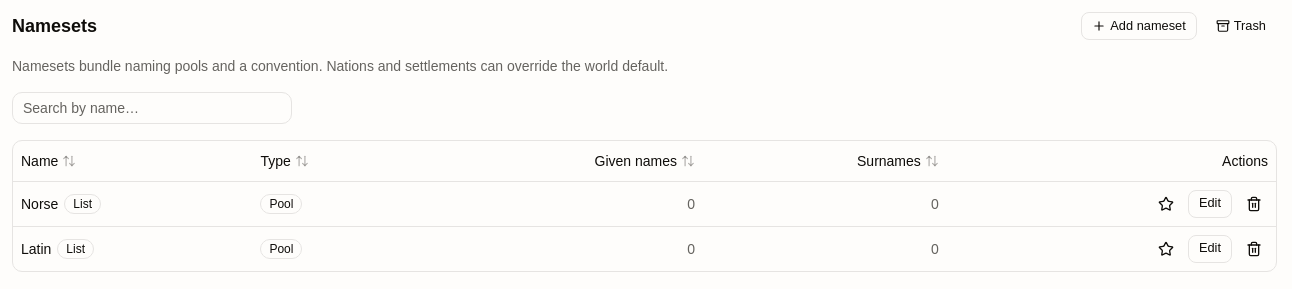
Test: NamesetsConfigPanel › narrows results via the search input
Expected: the text "Norse" is shown, [21,194,58,214]
Expected: the text "Latin" is shown, [21,238,51,258]
Type "Nor" into the field named "Search namesets by name" at (152,108), box [12,92,292,124]
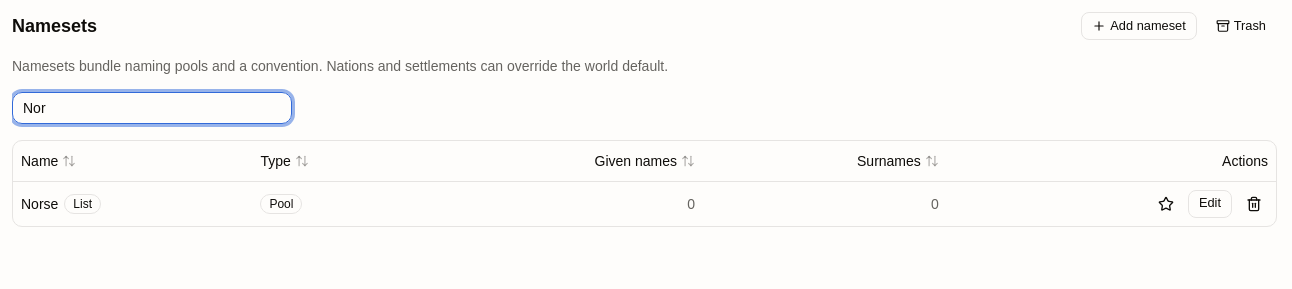
Expected: the text "Norse" is shown, [21,194,58,214]
Now the text "Latin" is gone
